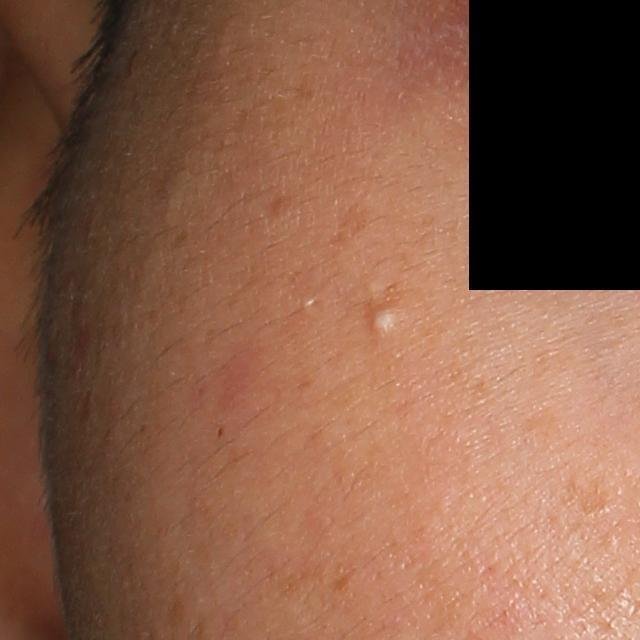comedo: (367, 307, 402, 336)
melasma: (325, 198, 372, 245)
